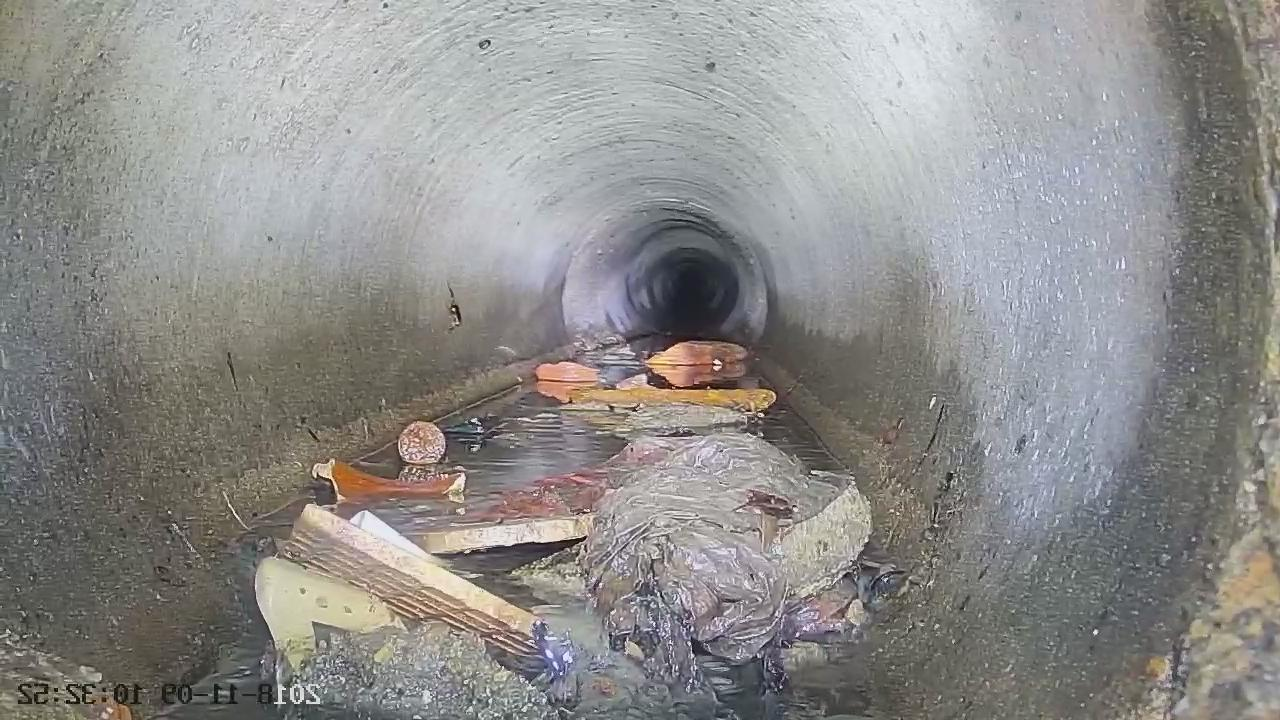ZAW: (282, 341, 870, 659)
